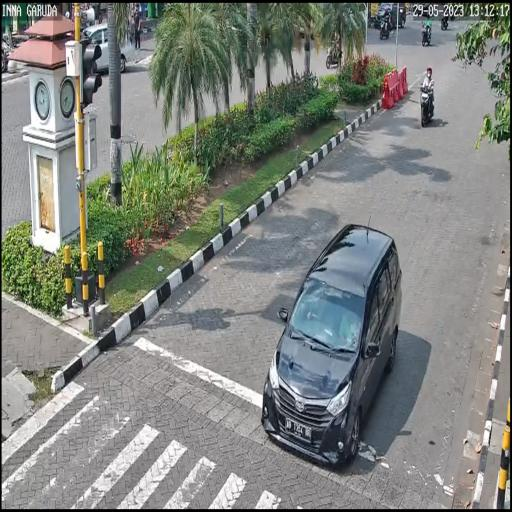mobil: (263, 226, 403, 463)
motor: (420, 80, 434, 128)
